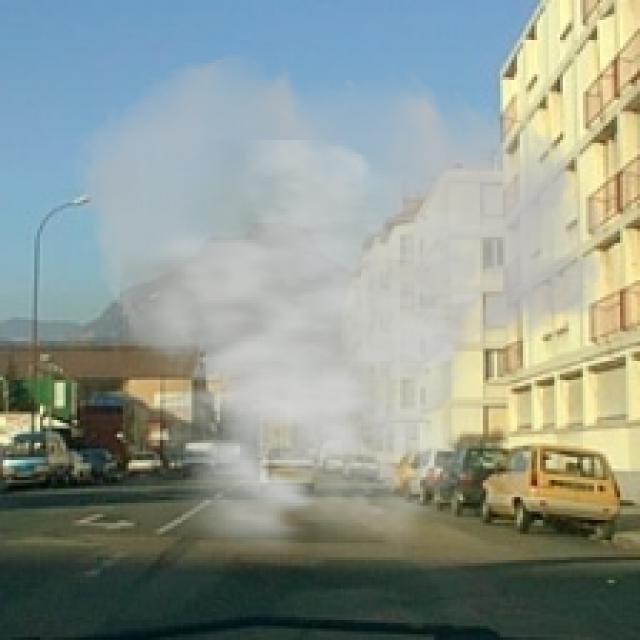Smoke: (69, 51, 612, 580)
